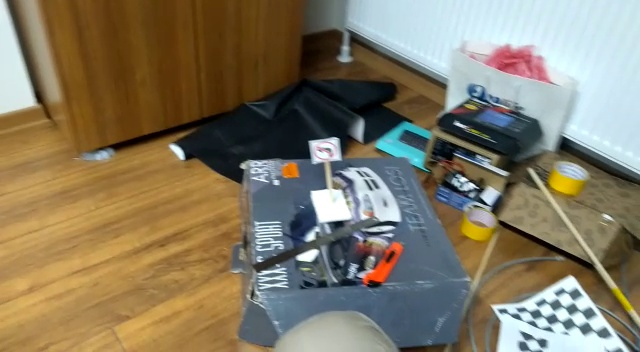sola_donulmez: (313, 137, 339, 162)
